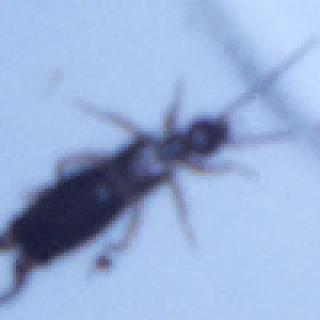earwig: (0, 37, 320, 301)
